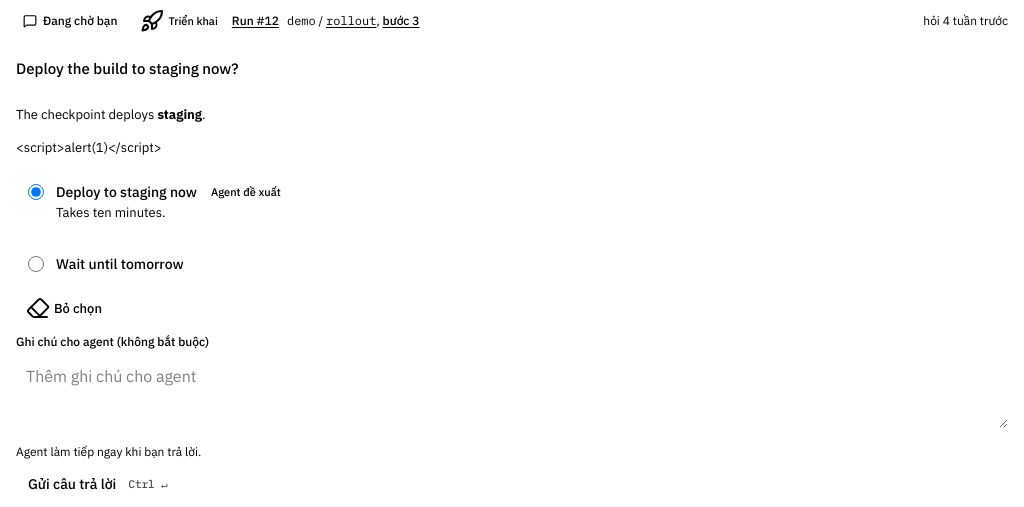
Test case: DecisionCard › refuses an empty answer without asking the hub, once the choice is cleared
Click the button with test id "decision-clear-option": (64, 308) top-left (16, 294), bottom-right (112, 322)
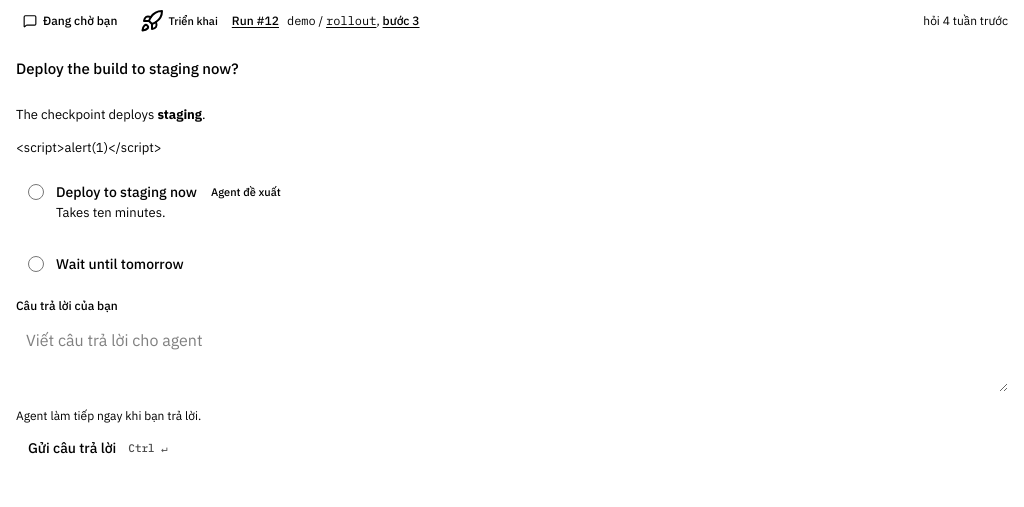
Check: the text box labelled "Câu trả lời của bạn" has attribute placeholder="Viết câu trả lời cho agent", box top-left (16, 320), bottom-right (1008, 392)
Click the button with test id "decision-send": (100, 448) top-left (16, 432), bottom-right (184, 464)
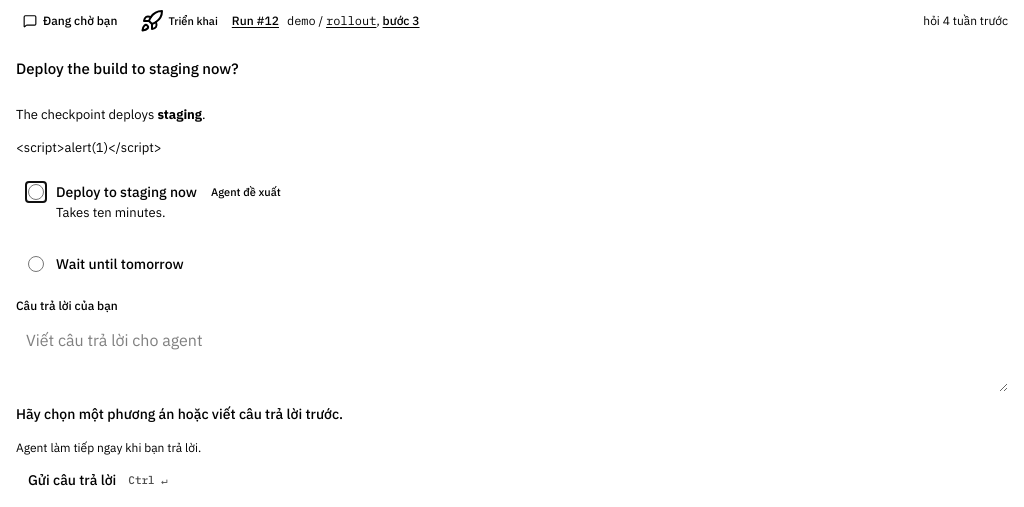
Check: the message with test id "decision-problem" reads "Hãy chọn một phương án hoặc viết câu trả lời trước.", box top-left (16, 405), bottom-right (343, 423)
